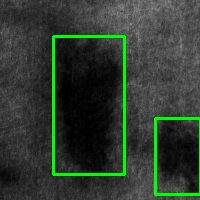patches: (53, 36, 124, 174), (155, 118, 200, 194)
